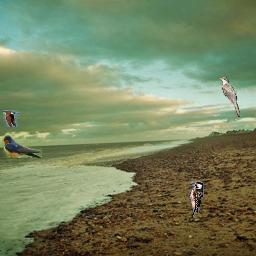Cuckoo: (218, 77, 240, 117), (3, 110, 20, 127)
Swallow: (2, 135, 42, 158)
Woodpecker: (188, 181, 204, 219)
